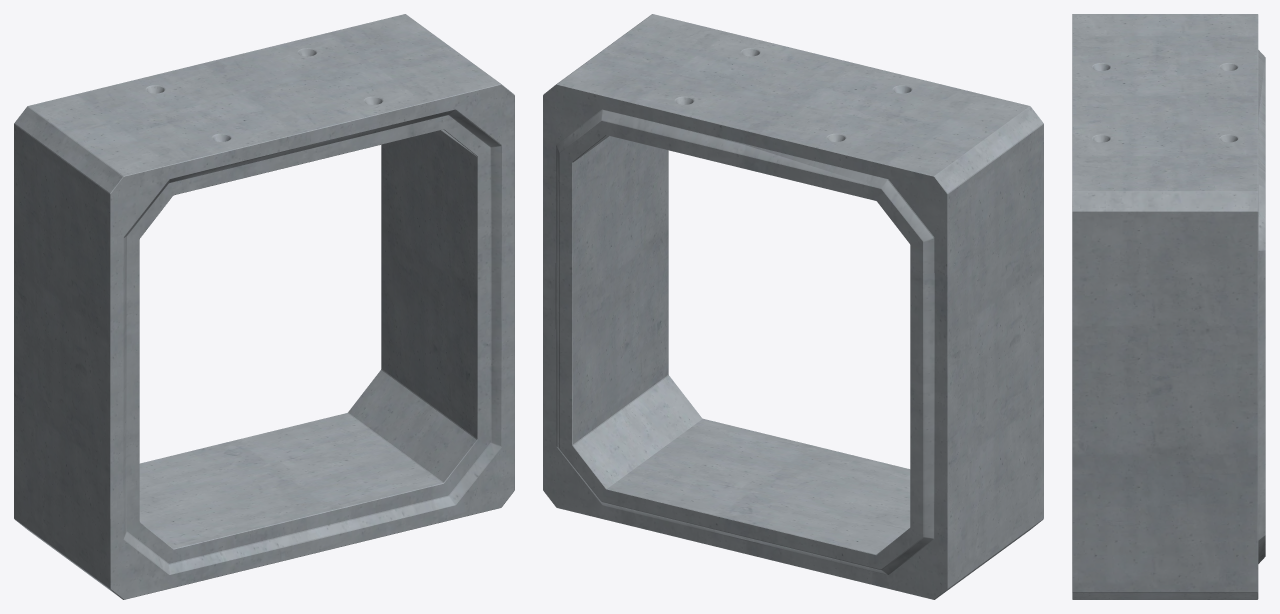
File: Przepust skrzynkowy - zamkniety.glb
3 views of the same model, side by side, from view 1: azimuth 30°, elevation 25°; view 2: azimuth 150°, elevation 25°; view 3: azimuth 270°, elevation 25° (orthographic). The views are drawn at different scales.
Visible parts, largest first — view 1: Przepust skrzynkowy - zamkniety1; view 2: Przepust skrzynkowy - zamkniety1; view 3: Przepust skrzynkowy - zamkniety1.
Part boxes in pixels (x1,y1,x2,y2): Przepust skrzynkowy - zamkniety1: [14, 14, 514, 599]; Przepust skrzynkowy - zamkniety1: [543, 14, 1043, 599]; Przepust skrzynkowy - zamkniety1: [1072, 14, 1265, 599].
Bounding box in the file's own units: 2.4 × 2.4 × 1.03.
Materials: 1 (1 with a texture image).
